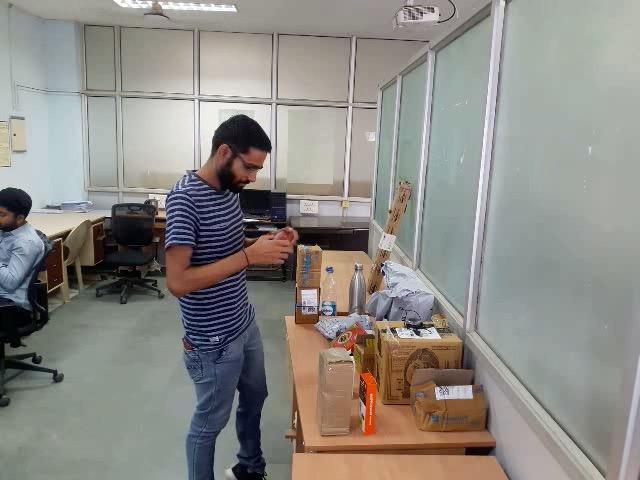Normal: (103, 81, 640, 480)
